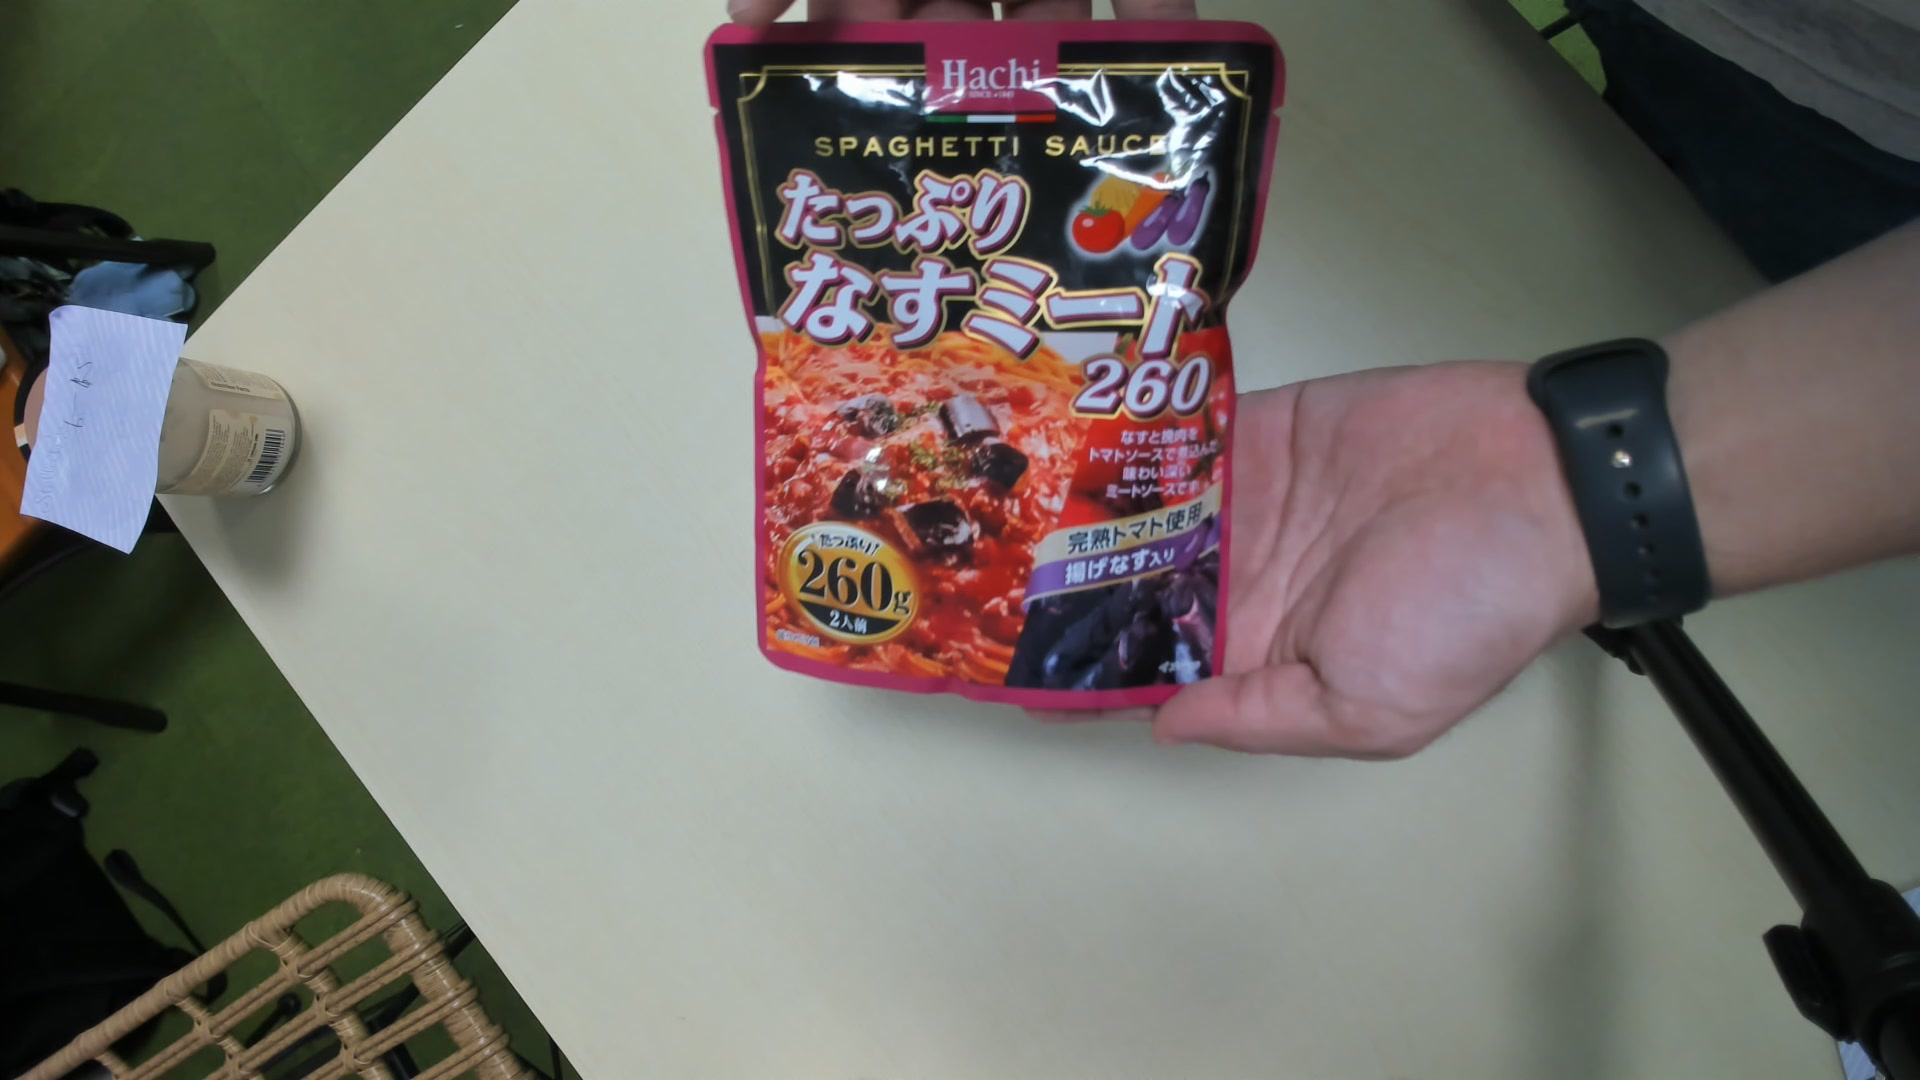PastaSauce_200-299g_NonHalal_NonHealthy: (705, 26, 1259, 707)
